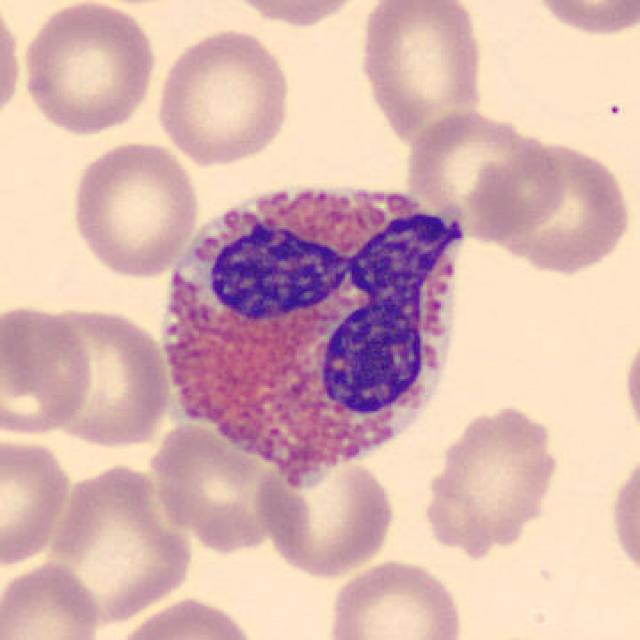Eosinophil: (148, 159, 478, 495)
RBC: (42, 460, 196, 626), (416, 398, 564, 559), (485, 137, 635, 277), (39, 302, 176, 452), (151, 24, 293, 168), (354, 0, 489, 145), (18, 0, 158, 138), (68, 137, 202, 280), (254, 451, 398, 580), (0, 301, 96, 441), (322, 555, 468, 640), (0, 432, 75, 569), (0, 559, 105, 640), (108, 594, 260, 640), (606, 444, 640, 589), (215, 0, 373, 30), (526, 0, 638, 39), (0, 2, 25, 130), (620, 321, 640, 451)
